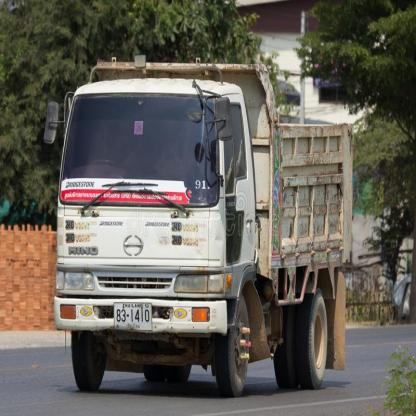dump_truck: (41, 31, 372, 396)
